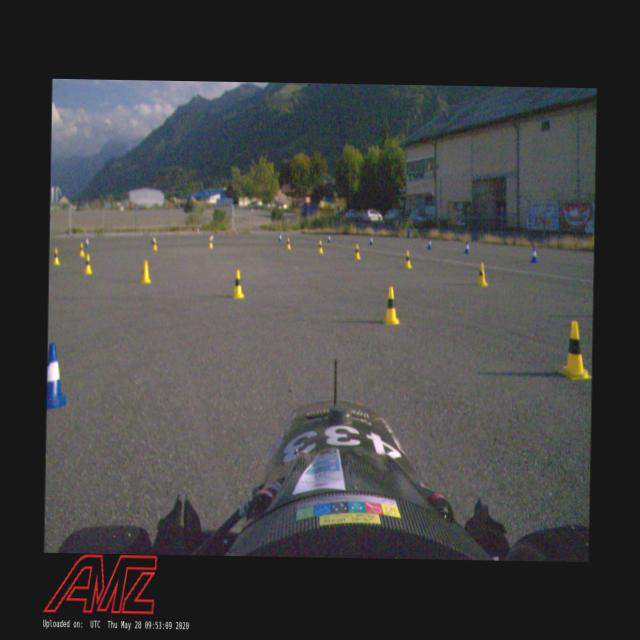blue_cone: (46, 342, 67, 409), (529, 246, 538, 262), (464, 240, 470, 253), (427, 238, 432, 250), (85, 235, 89, 248), (368, 236, 373, 246), (326, 233, 331, 242), (278, 232, 282, 242)
yellow_cone: (556, 320, 592, 380), (382, 286, 402, 325), (230, 270, 244, 298), (476, 262, 488, 286), (140, 260, 151, 284), (84, 254, 92, 274), (51, 248, 60, 265), (403, 250, 411, 269), (316, 240, 324, 253), (78, 242, 84, 256), (354, 244, 359, 260), (152, 238, 158, 250), (285, 237, 291, 249), (208, 236, 212, 248)
